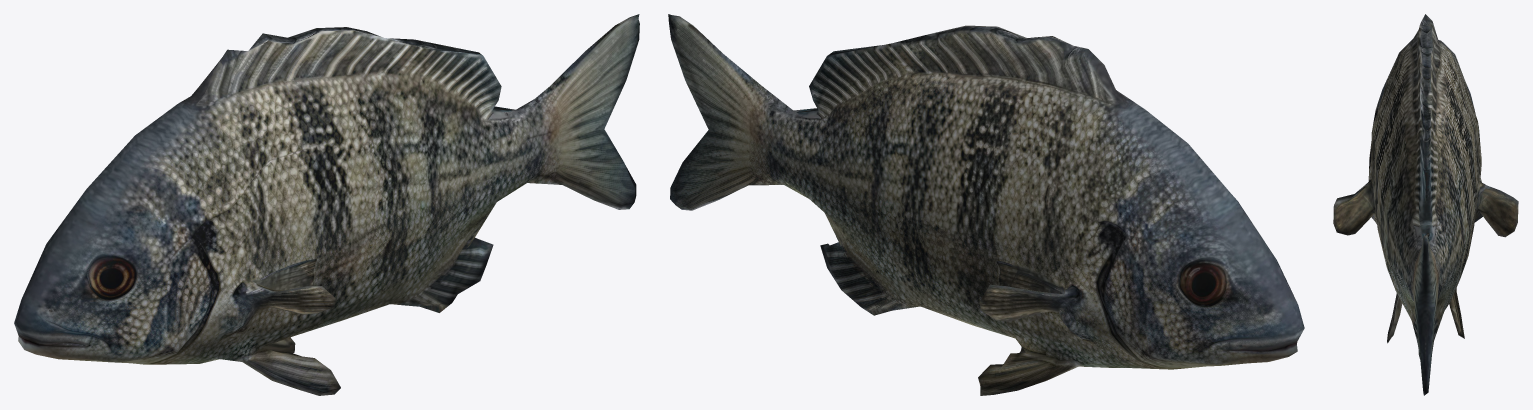
Rendered from gamseong.glb.
The picture shows the model from 3 angles, left to right: view 1: azimuth 30°, elevation 25°; view 2: azimuth 150°, elevation 25°; view 3: azimuth 270°, elevation 25°; orthographic projection. The views are drawn at different scales.
Visible parts, largest first — view 1: tripo_node_61ee63b8; view 2: tripo_node_61ee63b8; view 3: tripo_node_61ee63b8.
Boxes of the visible parts, x1,y1,x2,y2 form: tripo_node_61ee63b8: (14,14,639,395); tripo_node_61ee63b8: (668,14,1304,395); tripo_node_61ee63b8: (1333,14,1518,395).
Size of the model in its own units: 97.09 by 52.63 by 29.65.
Materials: 1 (1 with a texture image).
